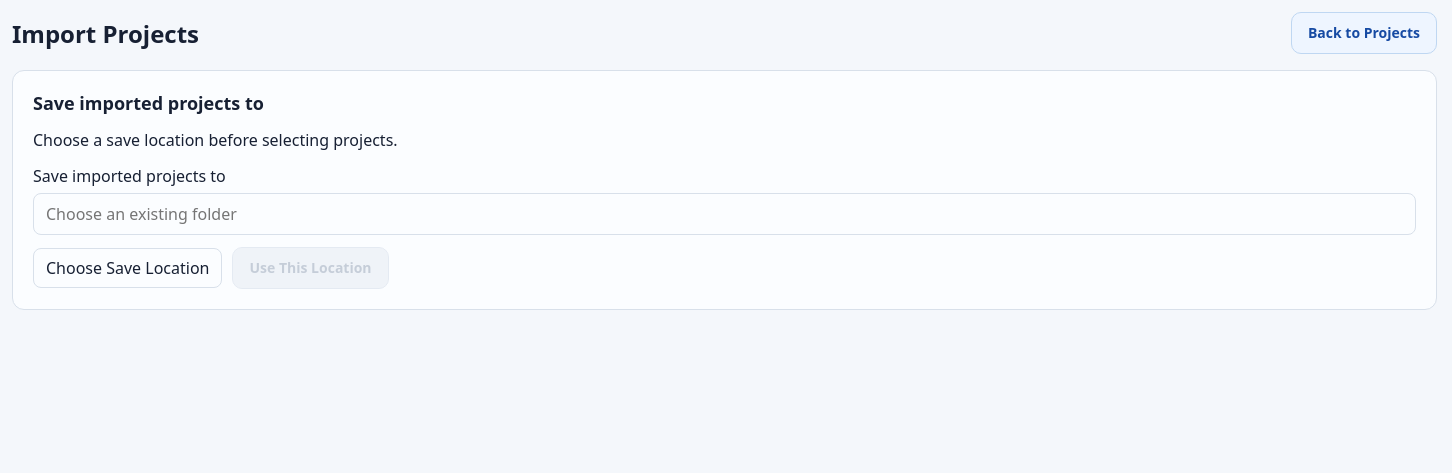
Test: offers first-use location setup before allowing any source checks
Expected: the button "Choose Project Folders" is not shown
In the field labelled "Save imported projects to": (724, 214) [33,193,1416,235], type "D:/Projects Dev"
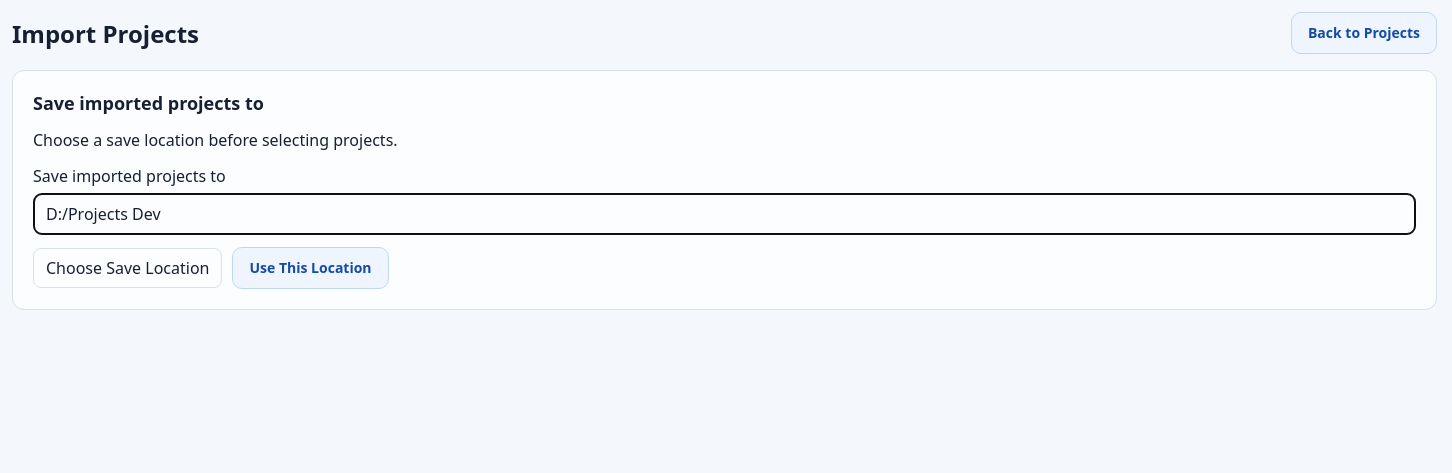
Click the button "Use This Location": (311, 268) [232,247,389,289]
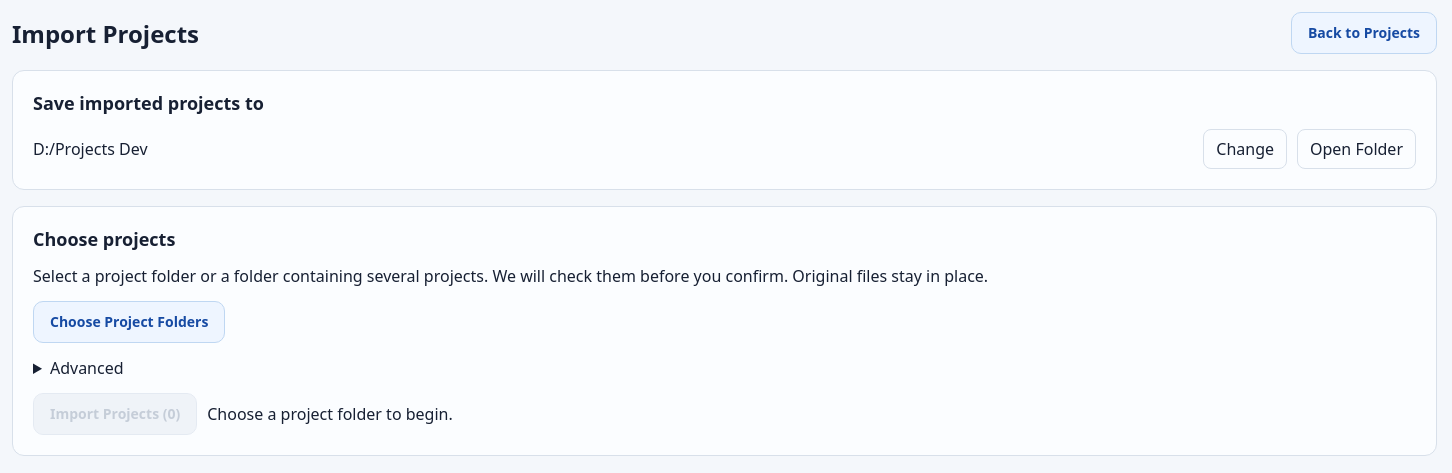
Result: the button "Choose Project Folders" is shown at [33,301,225,343]
Result: the text "D:/Projects Dev" is shown at [33,138,148,160]
